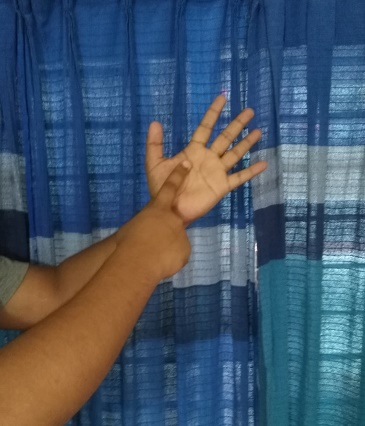oo: (143, 94, 269, 272)
